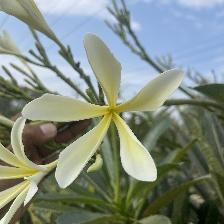champaka: (25, 30, 190, 198)
